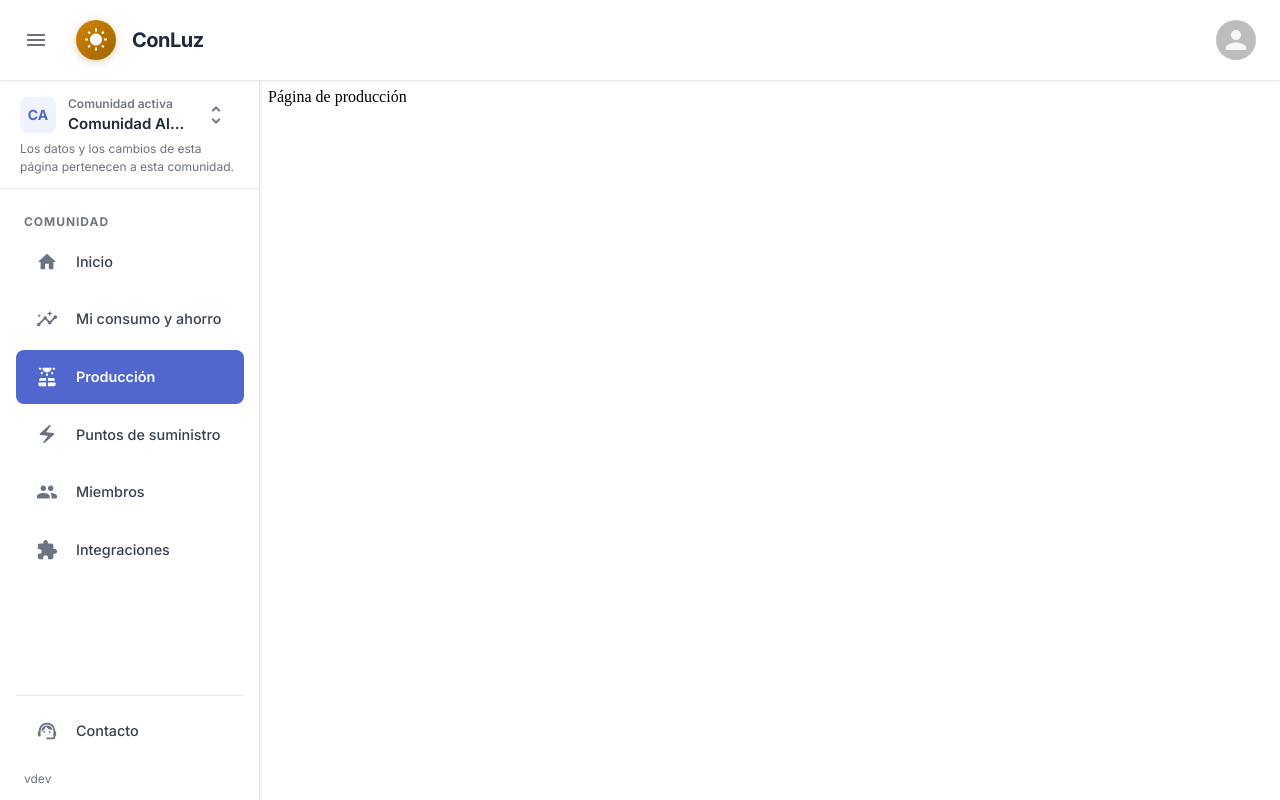
Test case: AuthenticatedLayout — the page scope is stated exactly once (AC4) › AC2: closing the menu moves the statement to a strip under the app bar, with the switch control
The width and height of the screenshot is (1280, 800).
Click the button named "menu".
click(36, 40)  # box [12,16,60,64]
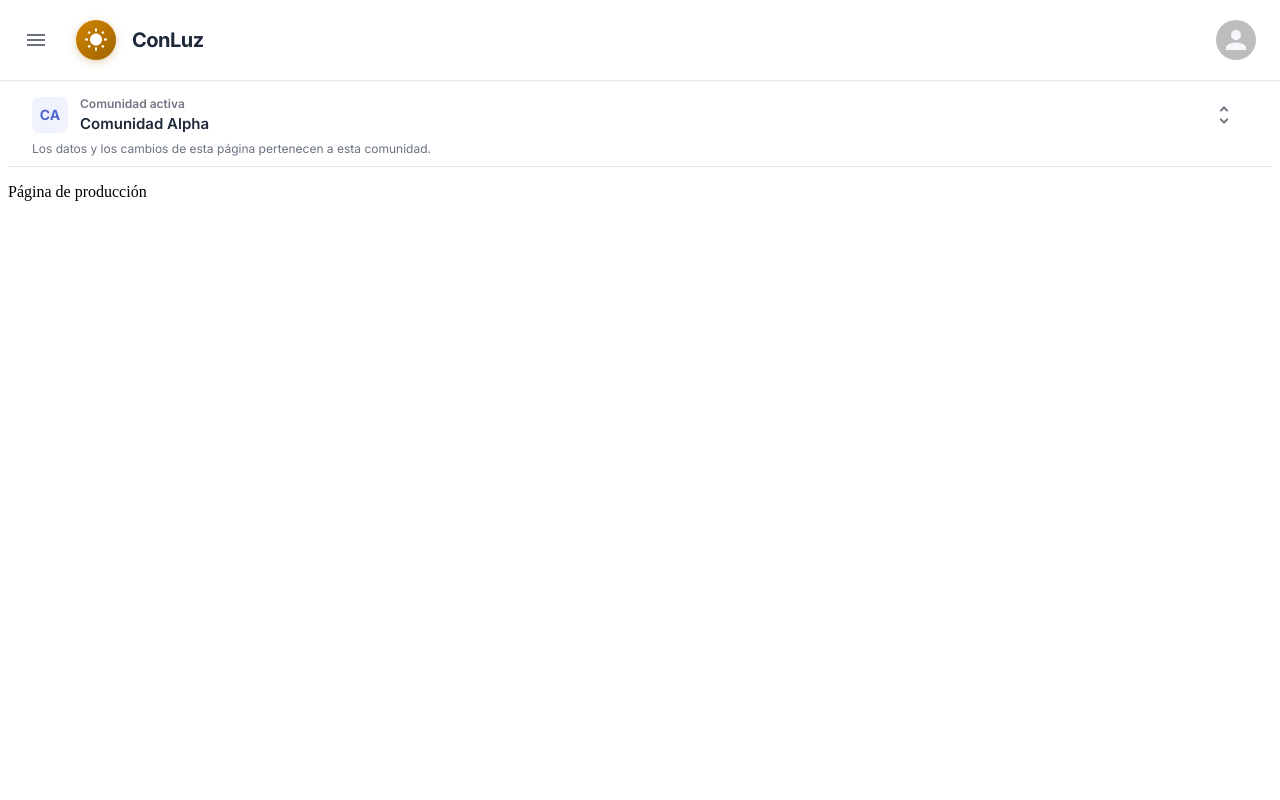
Expected: the number of elements named "Ámbito de la página" is 1, [8,72,1272,167]
Now the text "Comunidad Alpha" is shown once, box [80,114,209,133]
